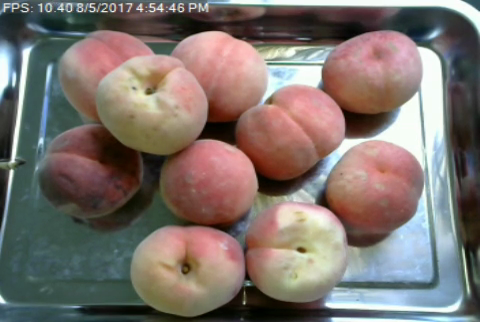Peach: (243, 199, 350, 303), (129, 224, 245, 318), (99, 54, 205, 155), (236, 85, 345, 182), (54, 28, 154, 128), (325, 138, 423, 238), (41, 122, 141, 217), (174, 30, 270, 121), (160, 138, 258, 226), (322, 28, 421, 115)
